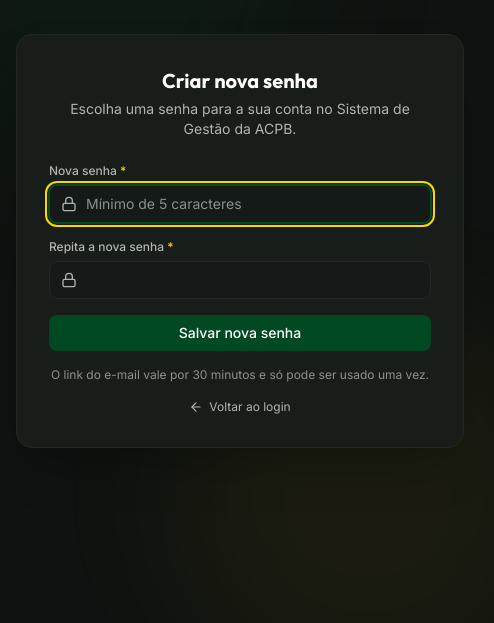
Test: RedefinirSenha › recusa confirmacao diferente, porque o token so serve uma vez
Type "senhaforte1" into the password field labelled "Nova senha *" at {"x": 240, "y": 204}, box [49,185,431,223]
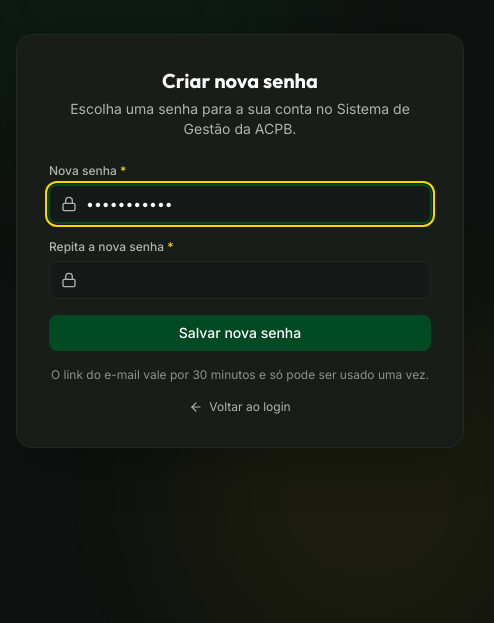
Type "senhaforte2" into the password field labelled "Repita a nova senha *" at {"x": 240, "y": 280}, box [49,261,431,299]
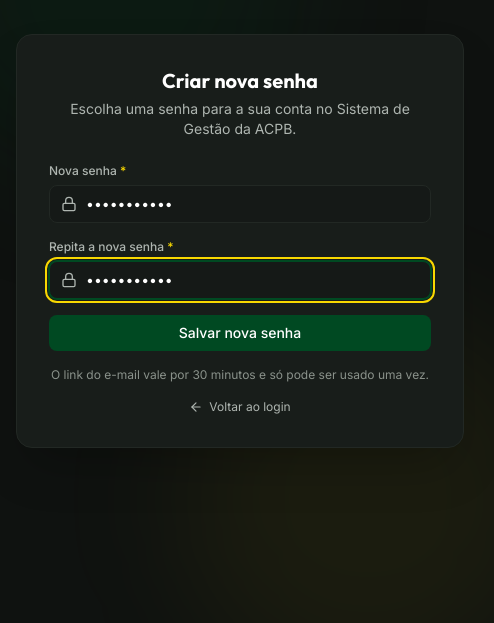
Click the button "Salvar nova senha" at {"x": 240, "y": 333}, box [49,315,431,351]
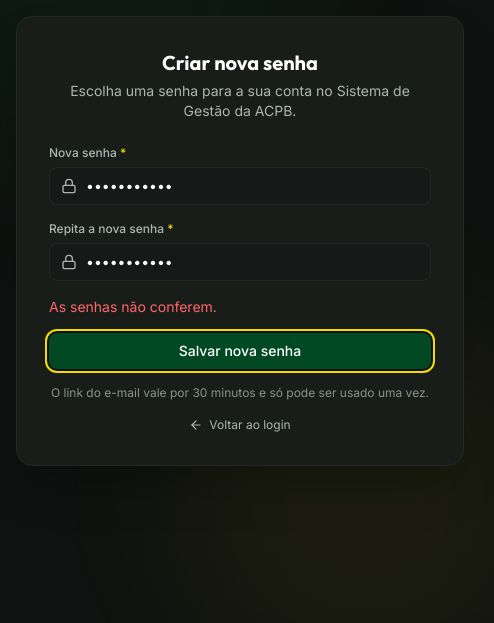
Expected: the message shows "não conferem", [49,298,217,315]
